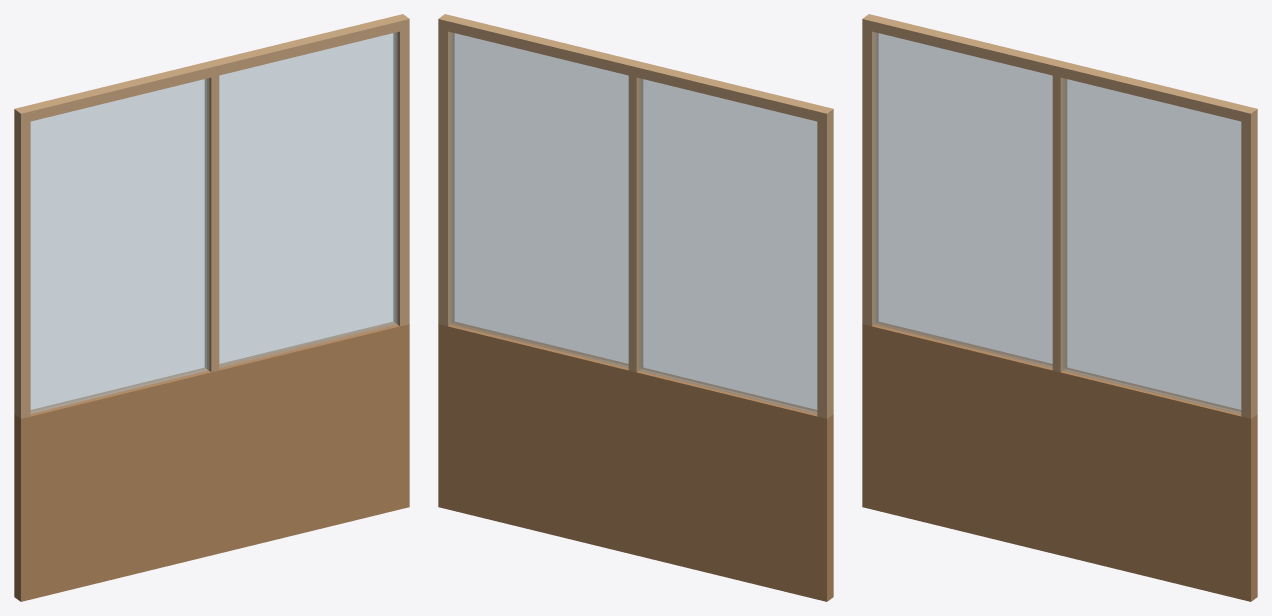
The model's file is glass_partition.glb.
The picture shows the model from 3 angles, left to right: view 1: azimuth 30°, elevation 25°; view 2: azimuth 150°, elevation 25°; view 3: azimuth 330°, elevation 25°; orthographic projection.
Visible parts, largest first — view 1: glass_partition_glass, glass_partition; view 2: glass_partition_glass, glass_partition; view 3: glass_partition_glass, glass_partition.
Boxes of the visible parts, <box> form: glass_partition_glass: <box>30,32,397,413</box>; glass_partition: <box>14,14,409,601</box>; glass_partition_glass: <box>450,32,817,413</box>; glass_partition: <box>438,14,833,601</box>; glass_partition_glass: <box>874,32,1241,413</box>; glass_partition: <box>862,14,1257,601</box>.
Size of the model in its own units: 2 by 2.4 by 0.06.
2 materials, 1 textured.
